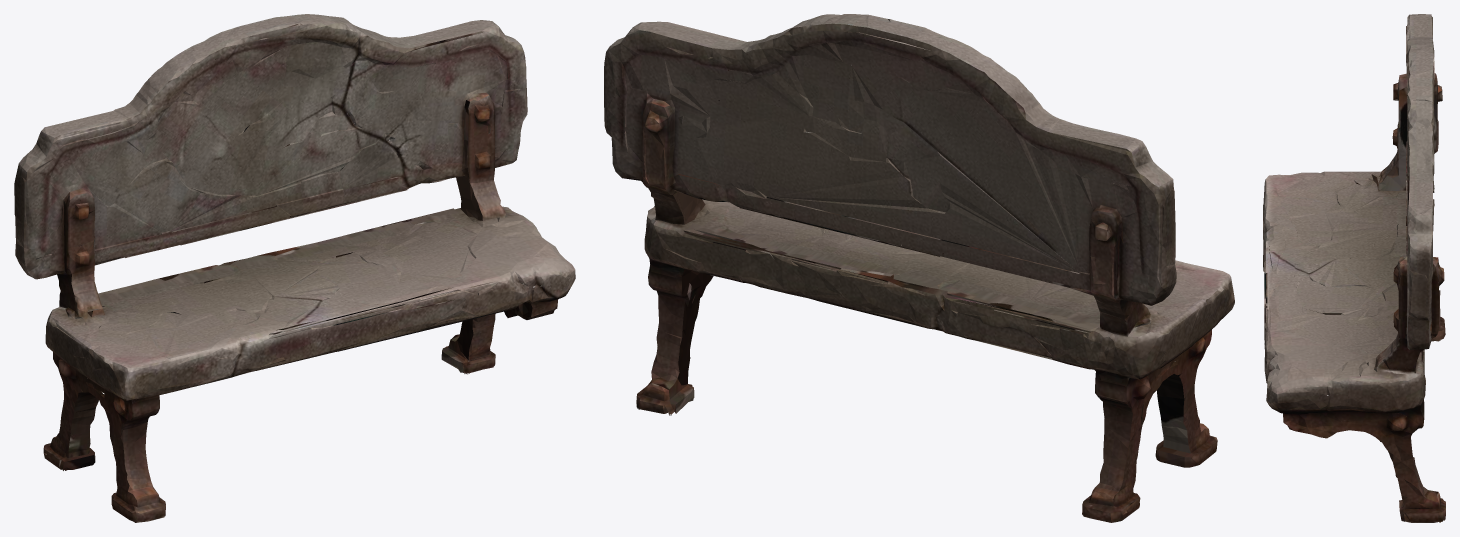
The model's file is park_stone_bench_1117.glb.
3 views of the same model, side by side, from view 1: azimuth 30°, elevation 25°; view 2: azimuth 150°, elevation 25°; view 3: azimuth 270°, elevation 25° (orthographic). The views are drawn at different scales.
Visible parts, largest first — view 1: world; view 2: world; view 3: world.
Part boxes in pixels (x1,y1,x2,y2): world: (14,14,575,522); world: (604,14,1234,522); world: (1263,14,1445,522).
Size of the model in its own units: 1.36 by 1 by 0.4588.
1 material, 1 textured.
